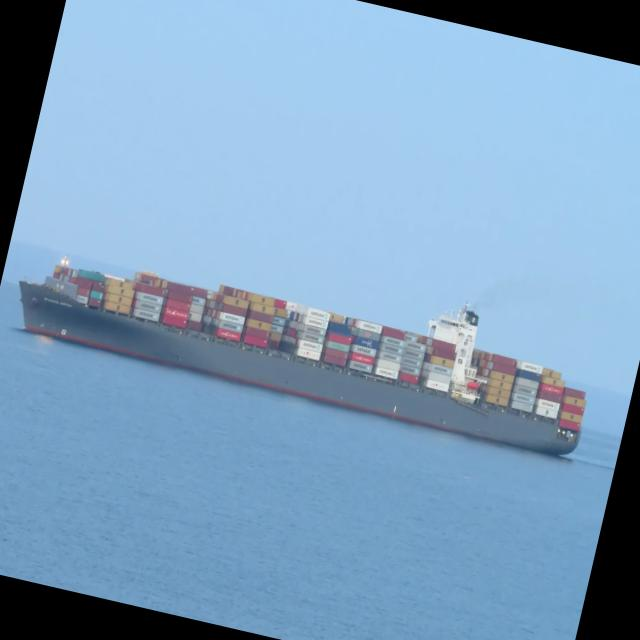Cargo: (19, 260, 585, 455)
